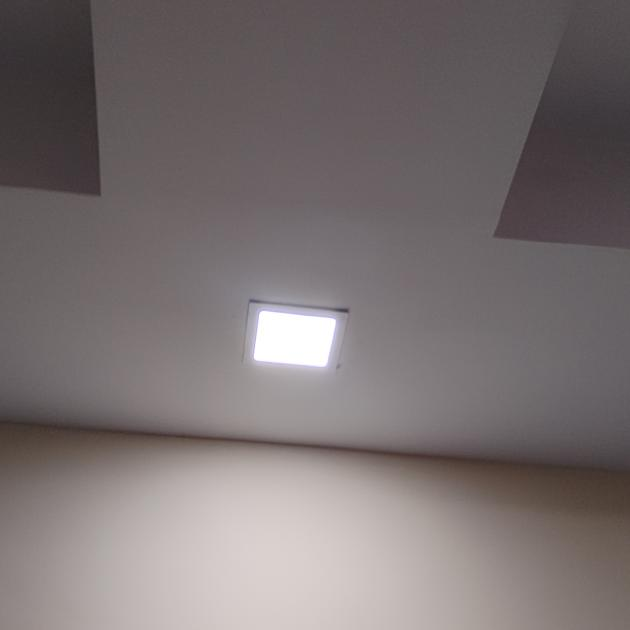light: (232, 269, 372, 413)
